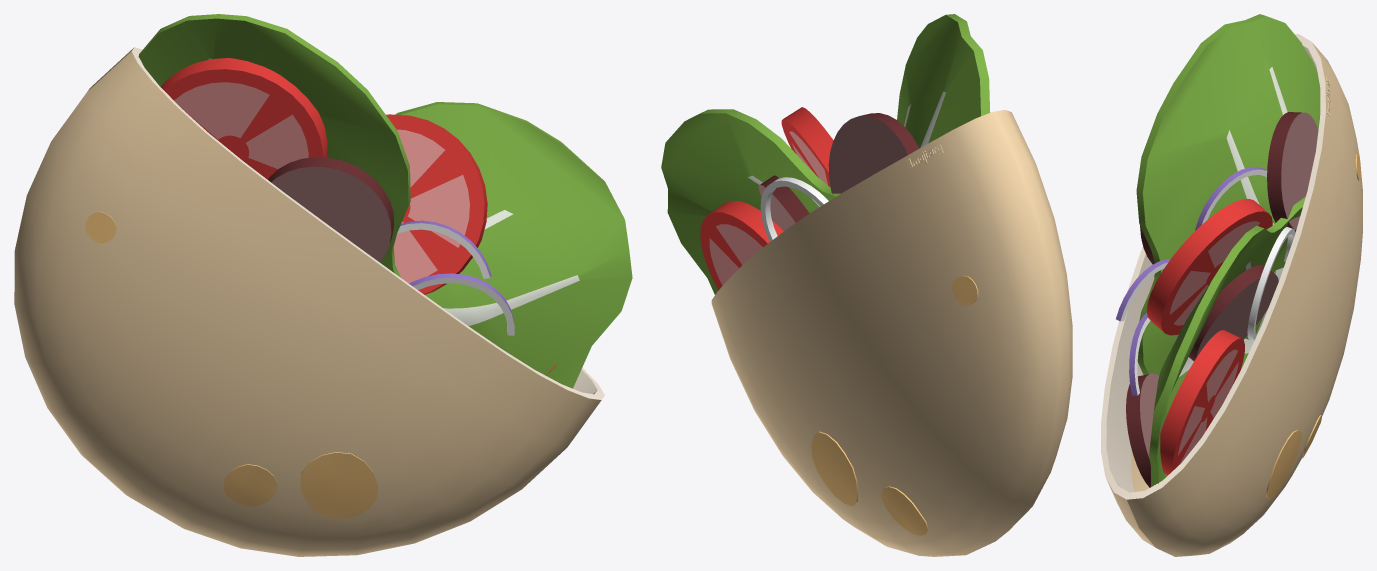
The model's file is stuffed_flatbread.fbx.
3 views of the same model, side by side, from view 1: azimuth 30°, elevation 25°; view 2: azimuth 150°, elevation 25°; view 3: azimuth 270°, elevation 25° (orthographic). The views are drawn at different scales.
Parts seen in each view (by area): view 1: Cube.387; view 2: Cube.387; view 3: Cube.387.
Boxes of the visible parts, <box> form: Cube.387: <box>14,14,632,556</box>; Cube.387: <box>661,14,1072,556</box>; Cube.387: <box>1101,14,1362,556</box>.
Size of the model in its own units: 226 by 233 by 117.
Materials: 1 (1 with a texture image).
